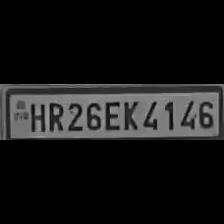1: (158, 98, 176, 130)
2: (64, 99, 82, 130)
4: (139, 98, 159, 130), (177, 97, 195, 129)
6: (194, 97, 214, 129), (84, 99, 100, 131)
E: (103, 97, 121, 130)
H: (27, 100, 45, 132)
K: (120, 97, 138, 130)
R: (46, 98, 62, 132)
